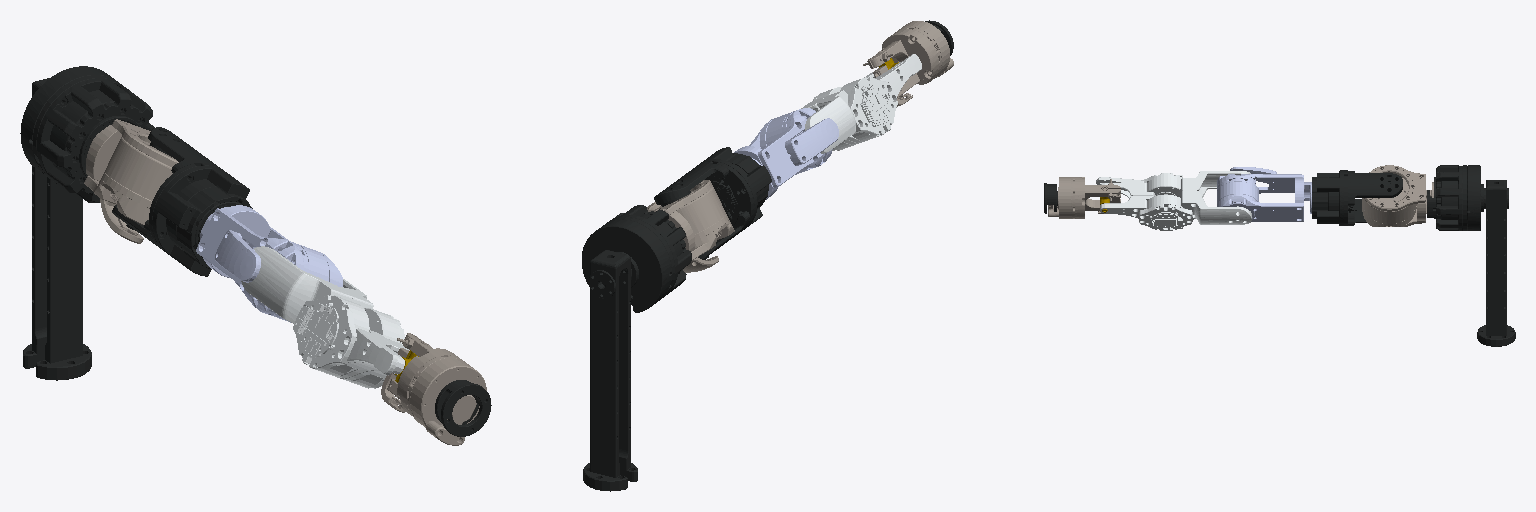
robot.urdf — right_arm:
<?xml version="1.0" encoding="utf-8"?>
<robot name="right_arm">
  <link name="base_link">
    <inertial>
      <origin xyz="-0.046219 -0.034827 0.169451" rpy="0 0 0" />
      <mass value="1.477" />
      <inertia ixx="0.008577" ixy="-1.039E-06" ixz="2.278E-05" iyy="0.009215" iyz="9.518E-07" izz="0.001158" />
    </inertial>
    <visual>
      <origin xyz="0 0 0" rpy="0 0 0" />
      <geometry>
        <mesh filename="../meshes/base_link.STL" />
      </geometry>
      <material name="">
        <color rgba="0.19 0.20 0.20 1" />
      </material>
    </visual>
    <collision>
      <origin xyz="-0.05 0 0.12" rpy="0 0 0" />
      <geometry>
        <box size="0.03 0.03 0.3"/>
      </geometry>
    </collision>
    <collision>
      <origin xyz="-0.05 -0.055 0.235" rpy="1.5708 0 0" />
      <geometry>
        <cylinder radius="0.06" length="0.07" />
      </geometry>
    </collision>
  </link>
  <link name="right_shoulder_pitch_link">
    <inertial>
      <origin xyz="-0.005325 8.266E-07 0.08346" rpy="0 0 0" />
      <mass value="1.131" />
      <inertia ixx="0.001120" ixy="-1.335E-07" ixz="-6.500E-06" iyy="0.0007355" iyz="-7.122E-07" izz="0.0007427" />
    </inertial>
    <visual>
      <origin xyz="0 0 0" rpy="0 0 0" />
      <geometry>
        <mesh filename="../meshes/right_shoulder_pitch_link.STL" />
      </geometry>
      <material name="">
        <color rgba="0.65 0.62 0.59 1" />
      </material>
    </visual>
    <collision>
      <origin xyz="0 0 0.06" rpy="0 0 0" />
      <geometry>
        <cylinder radius="0.04" length="0.05" />
      </geometry>
    </collision>
    <collision>
      <origin xyz="0 0 0.13" rpy="0 1.5708 0" />
      <geometry>
        <cylinder radius="0.046" length="0.07" />
      </geometry>
    </collision>
  </link>
  <joint name="right_shoulder_pitch" type="revolute">
    <origin xyz="-0.0484 -0.0673 0.23774" rpy="1.5708 -1.0471975511965976 0" />
    <parent link="base_link" />
    <child link="right_shoulder_pitch_link" />
    <axis xyz="0 0 1" />
    <limit lower="-1.71" upper="1.71" effort="25" velocity="4.19" />
  </joint>
  <link name="right_shoulder_roll_link">
    <inertial>
      <origin xyz="8.837E-06 -0.07657 0.007176" rpy="0 0 0" />
      <mass value="0.850" />
      <inertia ixx="0.0007163" ixy="1.694E-08" ixz="-5.619E-07" iyy="0.0008543" iyz="5.436E-06" izz="0.0007770" />
    </inertial>
    <visual>
      <origin xyz="0 0 0" rpy="0 0 0" />
      <geometry>
        <mesh filename="../meshes/right_shoulder_roll_link.STL" />
      </geometry>
      <material name="">
        <color rgba="0.19 0.20 0.20 1" />
      </material>
    </visual>
    <collision>
      <origin xyz="0 -0.1 0" rpy="1.5708 0 0" />
      <geometry>
        <cylinder radius="0.046" length="0.07" />
      </geometry>
    </collision>
  </link>
  <joint name="right_shoulder_roll" type="revolute">
    <origin xyz="-0.00505 0 0.1255" rpy="-1.5708 0 -1.5708" />
    <parent link="right_shoulder_pitch_link" />
    <child link="right_shoulder_roll_link" />
    <axis xyz="0 0 1" />
    <limit lower="-1.92" upper="1.92" effort="25" velocity="4.19" />
  </joint>
  <link name="right_shoulder_yaw_link">
    <inertial>
      <origin xyz="2.847E-05 0.003227 0.102424" rpy="0 0 0" />
      <mass value="1.202" />
      <inertia ixx="0.00102629" ixy="1.422E-07" ixz="1.234E-08" iyy="0.0012418" iyz="-5.632E-06" izz="0.00054793" />
    </inertial>
    <visual>
      <origin xyz="0 0 0" rpy="0 0 0" />
      <geometry>
        <mesh filename="../meshes/right_shoulder_yaw_link.STL" />
      </geometry>
      <material name="">
        <color rgba="0.79 0.82 0.93 1" />
      </material>
    </visual>
    <collision>
      <origin xyz="0 0 0.14" rpy="0 0 0" />
      <geometry>
        <cylinder radius="0.035" length="0.15" />
      </geometry>
    </collision>
  </link>
  <joint name="right_shoulder_yaw" type="revolute">
    <origin xyz="0 -0.0909 0.00505" rpy="1.5708 -1.5708 0" />
    <parent link="right_shoulder_roll_link" />
    <child link="right_shoulder_yaw_link" />
    <axis xyz="0 0 1" />
    <limit lower="-1.71" upper="1.71" effort="18" velocity="7.33" />
  </joint>
  <link name="right_forearm">
    <inertial>
      <origin xyz="0.105563 0.0079076 0.0018363" rpy="0 0 0" />
      <mass value="0.916" />
      <inertia ixx="0.000399696" ixy="-0.00011456" ixz="1.856E-06" iyy="0.002822460" iyz="-1.519E-07" izz="0.00297392" />
    </inertial>
    <visual>
      <origin xyz="0 0 0" rpy="0 0 0" />
      <geometry>
        <mesh filename="../meshes/right_forearm.STL" />
      </geometry>
      <material name="">
        <color rgba="0.90 0.92 0.93 1" />
      </material>
    </visual>
    <collision>
      <origin xyz="0.12 0 -0.02" rpy="0 1.5708 0" />
      <geometry>
        <box size="0.028 0.03 0.125" />
      </geometry>
    </collision>
  </link>
  <joint name="right_elbow" type="revolute">
    <origin xyz="0 0.00155 0.182" rpy="1.5708 -1.5708 0" />
    <parent link="right_shoulder_yaw_link" />
    <child link="right_forearm" />
    <axis xyz="0 0 1" />
    <limit lower="-2.27" upper="2.27" effort="18" velocity="7.33" />
  </joint>
  <link name="right_wrist_cross">
    <inertial>
      <origin xyz="-0.00071977 -2.491E-09 -1.747E-08" rpy="0 0 0" />
      <mass value="0.123" />
      <inertia ixx="2.352E-05" ixy="-3.529E-11" ixz="3.683E-11" iyy="1.970E-05" iyz="1.900E-11" izz="1.098E-05" />
    </inertial>
    <visual>
      <origin xyz="0 0 0" rpy="0 0 0" />
      <geometry>
        <mesh filename="../meshes/right_wrist_cross.STL" />
      </geometry>
      <material name="">
        <color rgba="0.65 0.52 0 1" />
      </material>
    </visual>
    <collision>
      <origin xyz="0 0 0" rpy="0 0 0" />
      <geometry>
        <box size="0.015 0.03 0.025" />
      </geometry>
    </collision>
  </link>
  <joint name="right_wrist_pitch" type="fixed">
    <origin xyz="0.24 0 0.00155" rpy="3.1416 0 0" />
    <parent link="right_forearm" />
    <child link="right_wrist_cross" />
    <axis xyz="0 0 1" />
    <limit lower="-0.001" upper="0.001" effort="0" velocity="0" />
  </joint>
  <link name="right_wrist">
    <inertial>
      <origin xyz="0.04092324 0.0011963 -0.00018242" rpy="0 0 0" />
      <mass value="0.396" />
      <inertia ixx="0.0002687" ixy="-1.387E-06" ixz="4.739E-07" iyy="0.0001846377" iyz="-1.138E-08" izz="0.00021488" />
    </inertial>
    <visual>
      <origin xyz="0 0 0" rpy="0 0 0" />
      <geometry>
        <mesh filename="../meshes/right_wrist.STL" />
      </geometry>
      <material name="">
        <color rgba="0.65 0.62 0.59 1" />
      </material>
    </visual>
    <collision>
      <origin xyz="0.05 0 0" rpy="0 1.5708 0" />
      <geometry>
        <cylinder radius="0.035" length="0.07" />
      </geometry>
    </collision>
  </link>
  <joint name="right_wrist_yaw" type="fixed">
    <origin xyz="0 0 0" rpy="0 0 0" />
    <parent link="right_wrist_cross" />
    <child link="right_wrist" />
    <axis xyz="0 1 0" />
    <limit lower="-0.001" upper="0.001" effort="3.5" velocity="19.9" />
  </joint>
  <link name="right_gripper_base">
    <inertial>
      <origin xyz="0.0031399 2.217E-09 0.03058094" rpy="0 0 0" />
      <mass value="0.1834" />
      <inertia ixx="4.476E-05" ixy="-4.851E-12" ixz="-6.837E-07" iyy="4.897E-05" iyz="-8.350E-12" izz="7.060E-05" />
    </inertial>
    <visual>
      <origin xyz="0 0 0" rpy="0 0 0" />
      <geometry>
        <mesh filename="../meshes/right_gripper_base.STL" />
      </geometry>
      <material name="">
        <color rgba="0.19 0.20 0.20 1" />
      </material>
    </visual>
    <collision>
      <origin xyz="0. 0 0.033" rpy="0 0 0" />
      <geometry>
        <cylinder radius="0.028" length="0.02" />
      </geometry>
    </collision>
  </link>
  <joint name="right_wrist_roll" type="revolute">
    <origin xyz="0.0649 0 0" rpy="1.5708 0 1.5708" />
    <parent link="right_wrist" />
    <child link="right_gripper_base" />
    <axis xyz="0 0 1" />
    <limit lower="-1.71" upper="1.71" effort="0" velocity="0" />
  </joint>
</robot>

--- What the picture shows (computed from the rendered views, not written in the file) ---
Views: 3 orthographic renders of the robot side by side, from view 1: azimuth 30°, elevation 25°; view 2: azimuth 150°, elevation 25°; view 3: azimuth 270°, elevation 25°.
Model right_arm with 8 links and 7 joints (5 revolute, 2 fixed), rooted at base_link, posed every joint at zero.
Links seen in each view (by area): view 1: base_link, right_forearm, right_shoulder_roll_link, right_shoulder_pitch_link, right_shoulder_yaw_link, right_wrist, right_gripper_base; view 2: base_link, right_forearm, right_shoulder_roll_link, right_shoulder_yaw_link, right_shoulder_pitch_link, right_wrist; view 3: base_link, right_forearm, right_shoulder_yaw_link, right_shoulder_roll_link, right_shoulder_pitch_link, right_wrist.
Link boxes in pixels (x1,y1,x2,y2): base_link: (20, 66, 154, 380); right_forearm: (241, 246, 409, 388); right_shoulder_roll_link: (112, 127, 252, 276); right_shoulder_pitch_link: (84, 119, 178, 243); right_shoulder_yaw_link: (196, 205, 342, 322); right_wrist: (381, 333, 486, 445); right_gripper_base: (435, 380, 491, 436); base_link: (582, 205, 691, 491); right_forearm: (801, 54, 921, 153); right_shoulder_roll_link: (654, 147, 771, 259); right_shoulder_yaw_link: (734, 108, 838, 199); right_shoulder_pitch_link: (647, 180, 734, 272); right_wrist: (863, 21, 953, 106); base_link: (1427, 165, 1515, 346); right_forearm: (1096, 171, 1251, 230); right_shoulder_yaw_link: (1217, 167, 1311, 221); right_shoulder_roll_link: (1312, 170, 1402, 225); right_shoulder_pitch_link: (1362, 165, 1433, 226); right_wrist: (1048, 177, 1120, 218).
Bounding box of the posed robot: 0.1196 × 0.849 × 0.339 m (x, y, z).
Meshes: 8 distinct files referenced, 8 mesh visuals loaded (8 binary STL).